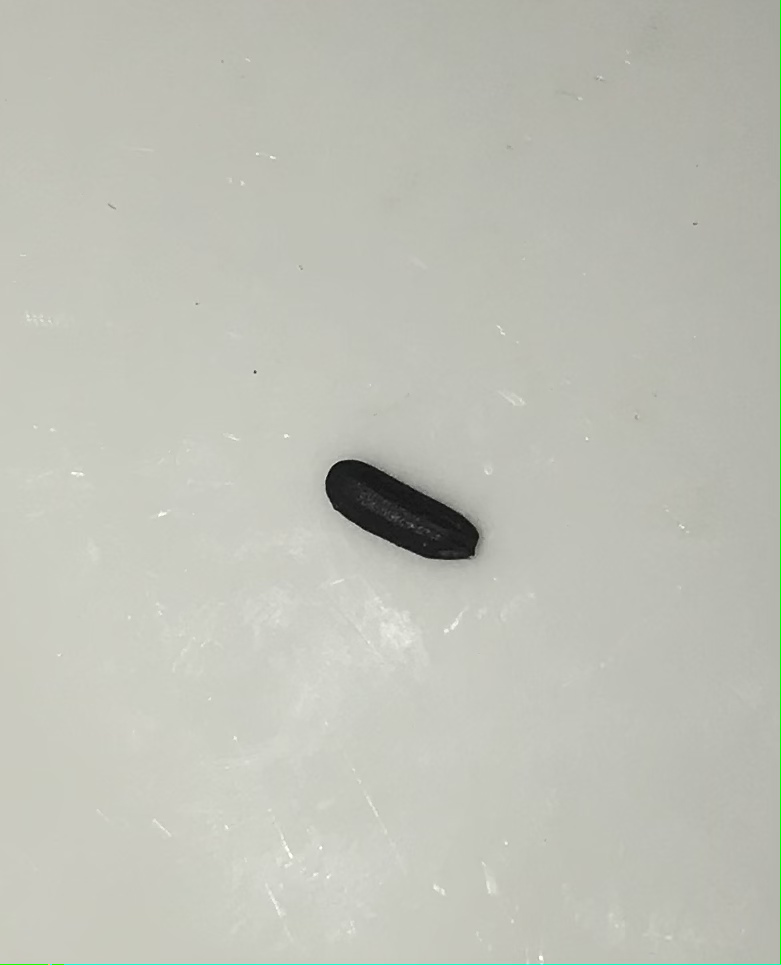Gao Nep Cam: (301, 427, 496, 578)
